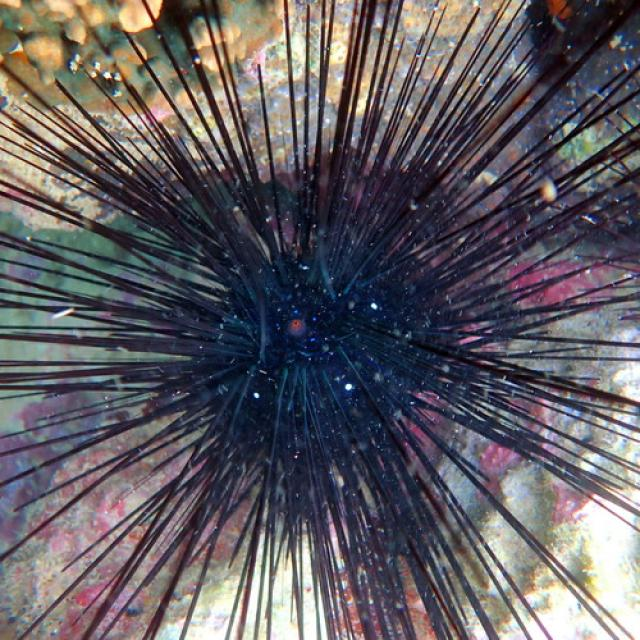Urchin: (1, 1, 640, 636)
